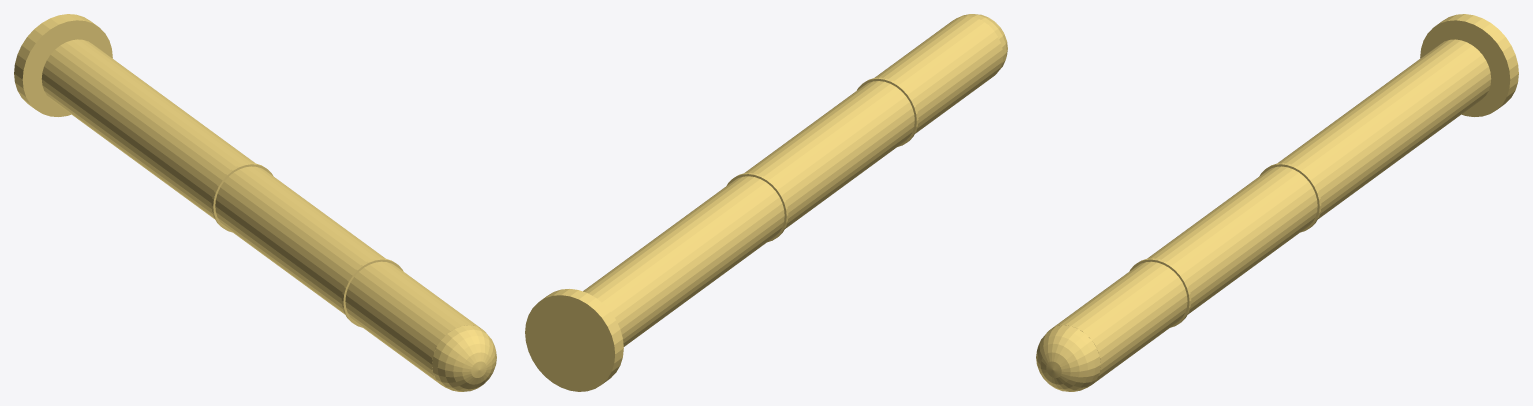
File: antenna.glb
3 views of the same model, side by side, from view 1: azimuth 30°, elevation 25°; view 2: azimuth 150°, elevation 25°; view 3: azimuth 330°, elevation 25° (orthographic).
Visible parts, largest first — view 1: antenna; view 2: antenna; view 3: antenna.
Boxes of the visible parts, bbox=[...] form: antenna: bbox=[14, 14, 496, 391]; antenna: bbox=[525, 14, 1007, 391]; antenna: bbox=[1036, 14, 1518, 391].
Bounding box in the file's own units: 0.018 × 0.018 × 0.1454.
